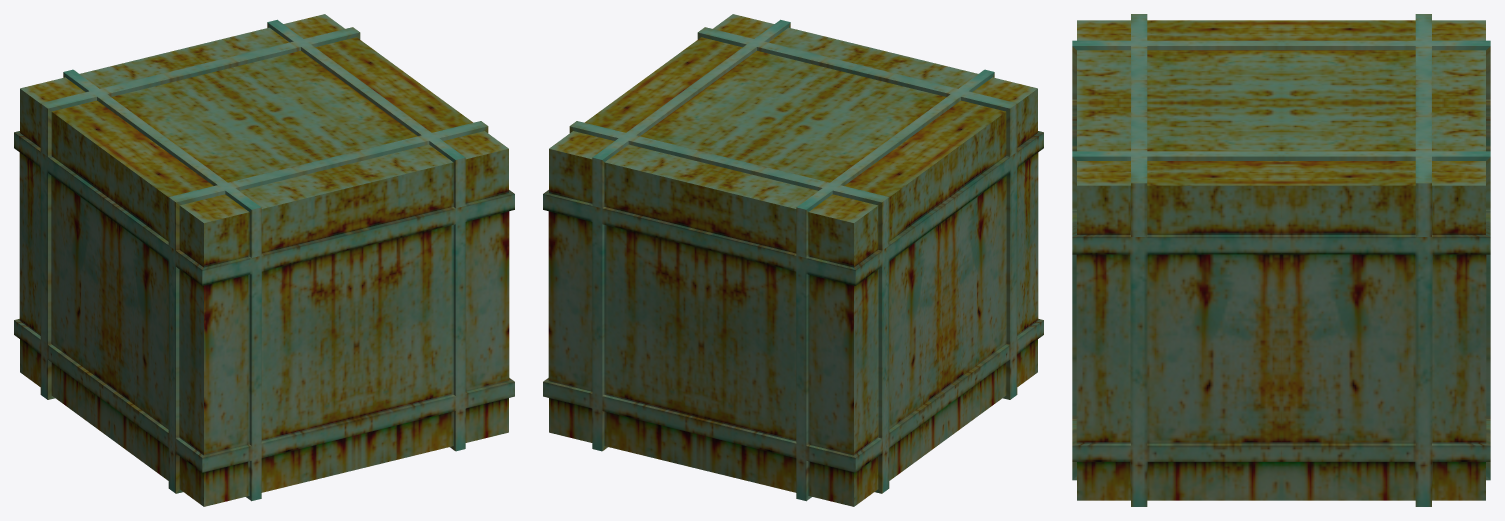
File: easterCube.glb
3 renders of one model, left to right at view 1: azimuth 30°, elevation 25°; view 2: azimuth 150°, elevation 25°; view 3: azimuth 270°, elevation 25°, orthographic. The views are drawn at different scales.
Visible parts, largest first — view 1: door; view 2: door; view 3: door.
Boxes of the visible parts, x1,y1,x2,y2 form: door: (14, 14, 514, 506); door: (543, 14, 1043, 506); door: (1072, 14, 1490, 506).
Size of the model in its own units: 0.5704 by 0.5084 by 0.5956.
1 material, 1 textured.
